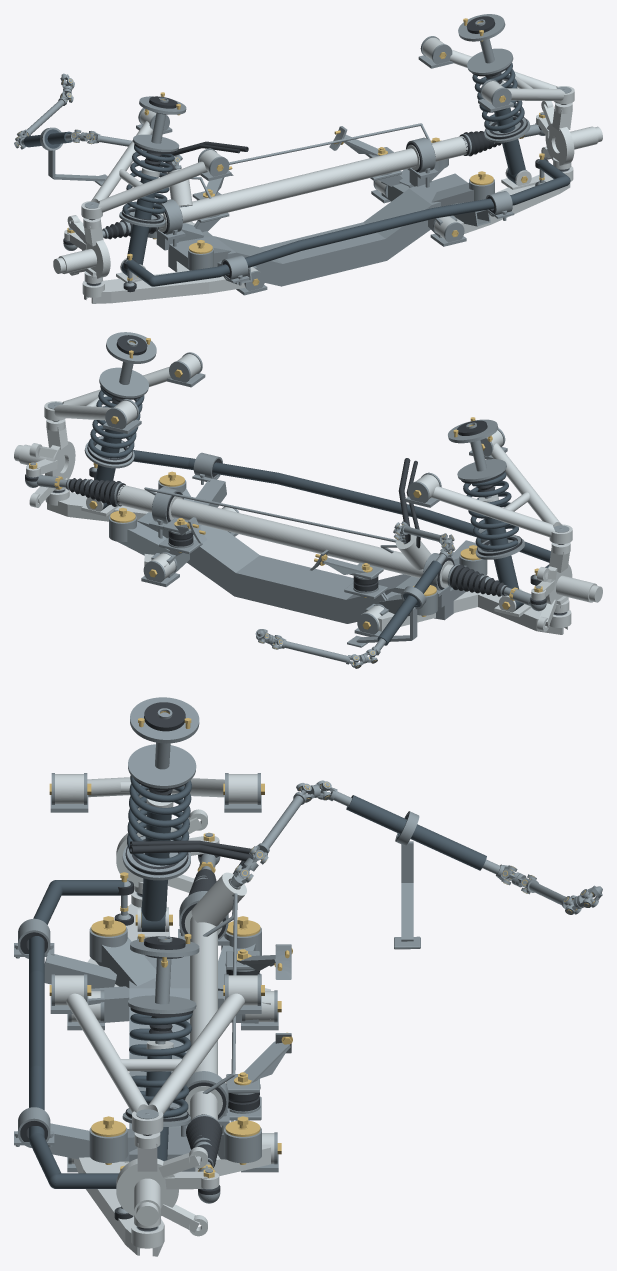
The model's file is structure-front.glb.
3 renders of one model, top to bottom at view 1: azimuth 30°, elevation 25°; view 2: azimuth 150°, elevation 25°; view 3: azimuth 270°, elevation 25°, orthographic. The views are drawn at different scales.
Visible parts, largest first — view 1: FSU-001, STR-001, FSU-012, FSU-FR-002, FSU-FR-001, FSU-FR-019, FSU-FL-019, FSU-FL-002, FSU-FL-001, FSU-FR-028, FSU-FL-028, FSU-FL-034 (+22 smaller); view 2: FSU-001, STR-001, FSU-012, FSU-FR-002, FSU-FR-019, FSU-FL-019, FSU-FR-001, FSU-FL-002, FSU-FL-001, FSU-FR-028, FSU-FL-028, FSU-FL-034 (+21 smaller); view 3: FSU-001, FSU-FL-002, FSU-012, FSU-FL-019, STR-001, FSU-FL-001, FSU-FR-028, FSU-FR-002, FSU-FL-028, FSU-FR-034, STR-015, STR-037 (+17 smaller).
Part boxes in pixels (box(x1,y1,x2,y2)): FSU-001: box(148, 159, 494, 286); STR-001: box(155, 136, 467, 231); FSU-012: box(126, 159, 570, 286); FSU-FR-002: box(81, 109, 221, 219); FSU-FR-001: box(82, 221, 257, 303); FSU-FR-019: box(53, 215, 110, 283); FSU-FL-019: box(536, 101, 602, 169); FSU-FL-002: box(422, 37, 574, 104); FSU-FL-001: box(375, 166, 573, 239); FSU-FR-028: box(122, 145, 174, 214); FSU-FL-028: box(472, 63, 524, 131); FSU-FL-034: box(467, 38, 513, 74); FSU-001: box(109, 478, 487, 623); STR-001: box(117, 485, 453, 587); FSU-012: box(133, 450, 550, 567); FSU-FR-002: box(416, 430, 572, 544); FSU-FR-019: box(531, 542, 602, 631); FSU-FL-019: box(14, 419, 75, 507); FSU-FR-001: box(361, 588, 571, 634); FSU-FL-002: box(44, 354, 200, 425); FSU-FL-001: box(45, 488, 236, 579); FSU-FR-028: box(463, 472, 518, 550); FSU-FL-028: box(88, 385, 144, 458); FSU-FL-034: box(99, 361, 148, 398); FSU-001: box(44, 927, 261, 1171); FSU-FL-002: box(55, 975, 257, 1134); FSU-012: box(29, 880, 124, 1188); FSU-FL-019: box(116, 1132, 219, 1236); STR-001: box(184, 872, 246, 1120); FSU-FL-001: box(71, 1133, 274, 1256); FSU-FR-028: box(127, 775, 191, 865); FSU-FR-002: box(55, 774, 257, 803); FSU-FL-028: box(129, 1013, 192, 1118); FSU-FR-034: box(128, 742, 196, 788); STR-015: box(346, 795, 486, 870); STR-037: box(394, 811, 420, 949).
Size of the model in its own units: 1.63 by 0.5905 by 1.05.
